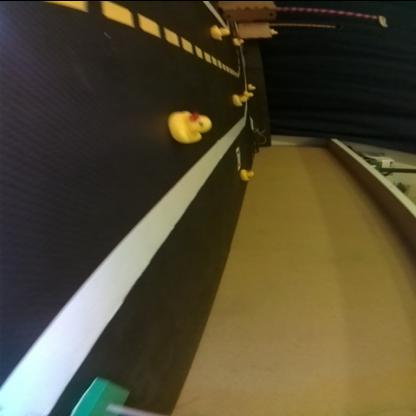Duckie: (169, 109, 211, 139), (212, 24, 232, 38), (235, 92, 248, 104), (241, 168, 255, 178), (246, 89, 254, 96), (235, 37, 244, 43), (271, 27, 278, 33), (249, 82, 256, 88)
QR code: (236, 146, 242, 168)
